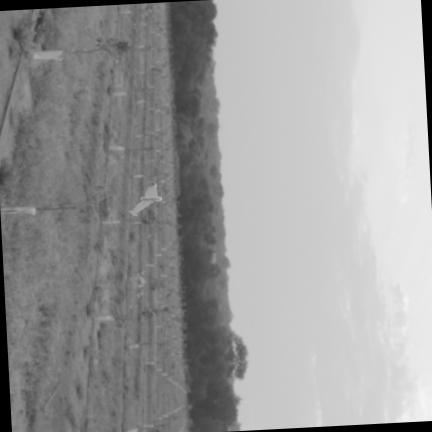Shahed: (128, 182, 160, 216)
